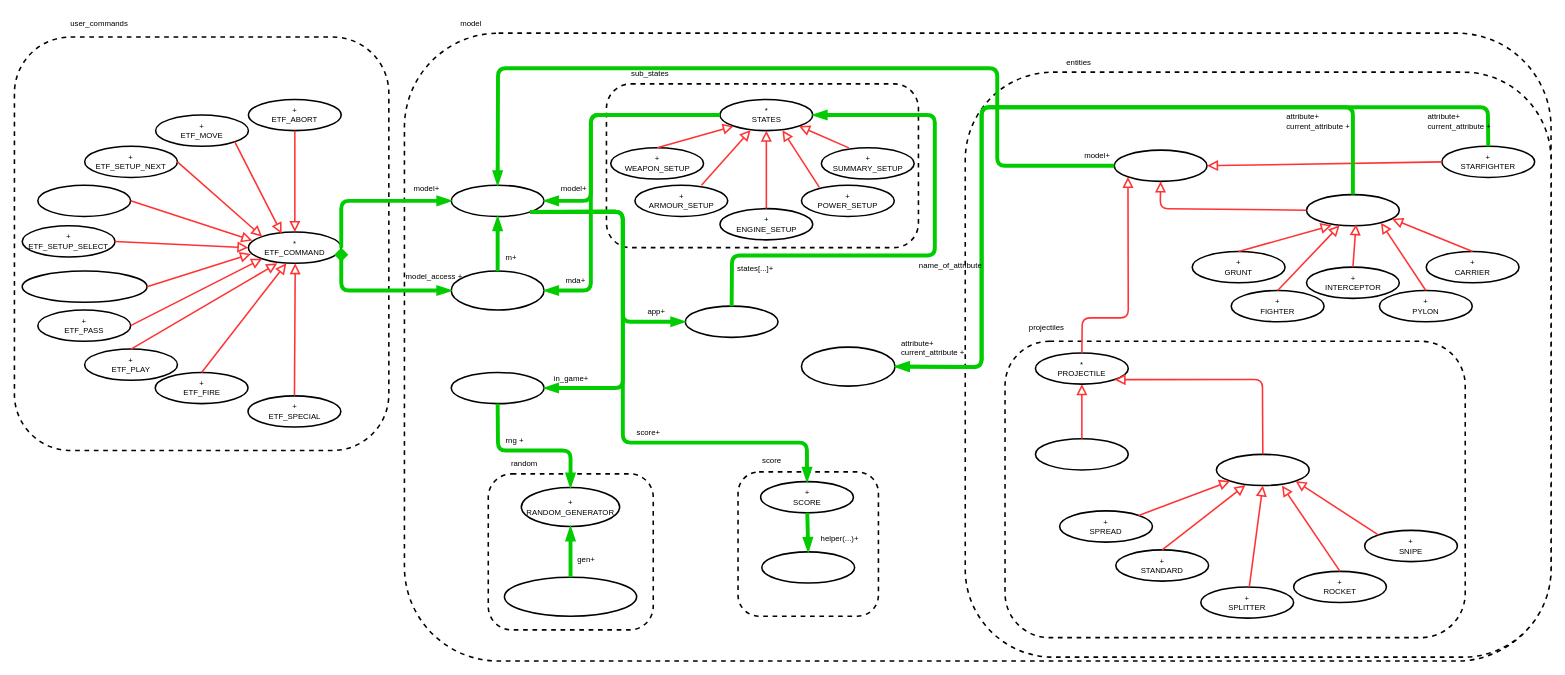
This 1565x675 diagram has some shape labels left out. Here are the shapes that lost their labels. From the top down, the centre of each, then its label:
(x=1160, y=165): * ENTITY
(x=84, y=200): + ETF_SETUP_BACK
(x=497, y=200): + ETF_MODEL
(x=1352, y=209): * ENEMY
(x=84, y=286): + ETF_TOGGLE_DEBUG_MODE
(x=497, y=290): + ETF_MODEL_ACCESS
(x=731, y=321): + APPLICATION
(x=847, y=366): + ATTRIBUTE_VALUES
(x=497, y=387): + IN_GAME
(x=1081, y=454): * ENEMY_PROJ
(x=1262, y=469): * FRIENDLY_PROJ
(x=808, y=567): + FOCUS
(x=570, y=596): + RANDOM_GENERATOR_ACESS
